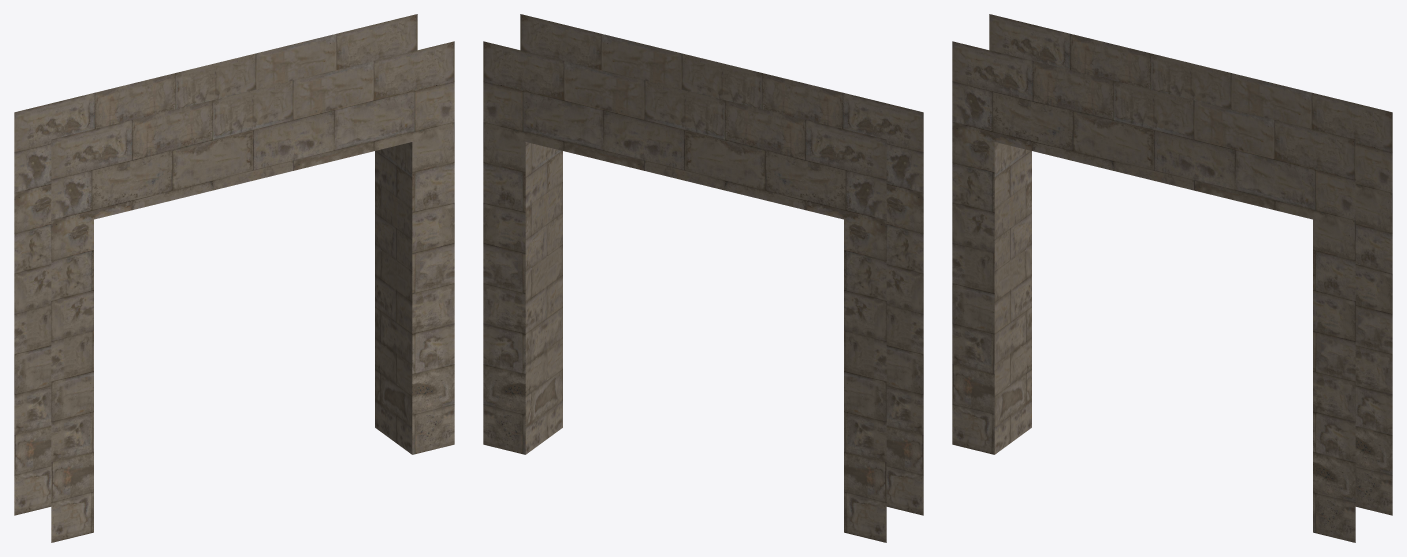
The model's file is door_frame.glb.
3 views of the same model, side by side, from view 1: azimuth 30°, elevation 25°; view 2: azimuth 150°, elevation 25°; view 3: azimuth 330°, elevation 25° (orthographic).
Visible parts, largest first — view 1: frame; view 2: frame; view 3: frame.
Boxes of the visible parts, box(x1,y1,x2,y2) form: frame: box(14, 14, 454, 542); frame: box(483, 14, 923, 542); frame: box(952, 14, 1392, 542).
Bounding box in the file's own units: 6.24 × 5.96 × 0.9976.
1 material, 1 textured.
